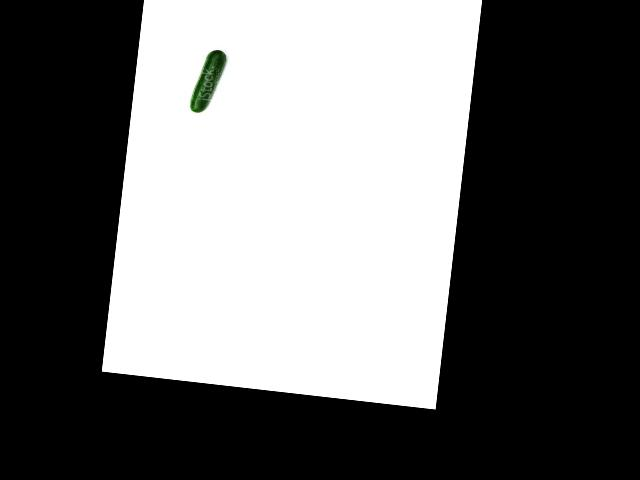cucumber: (189, 47, 227, 115)
